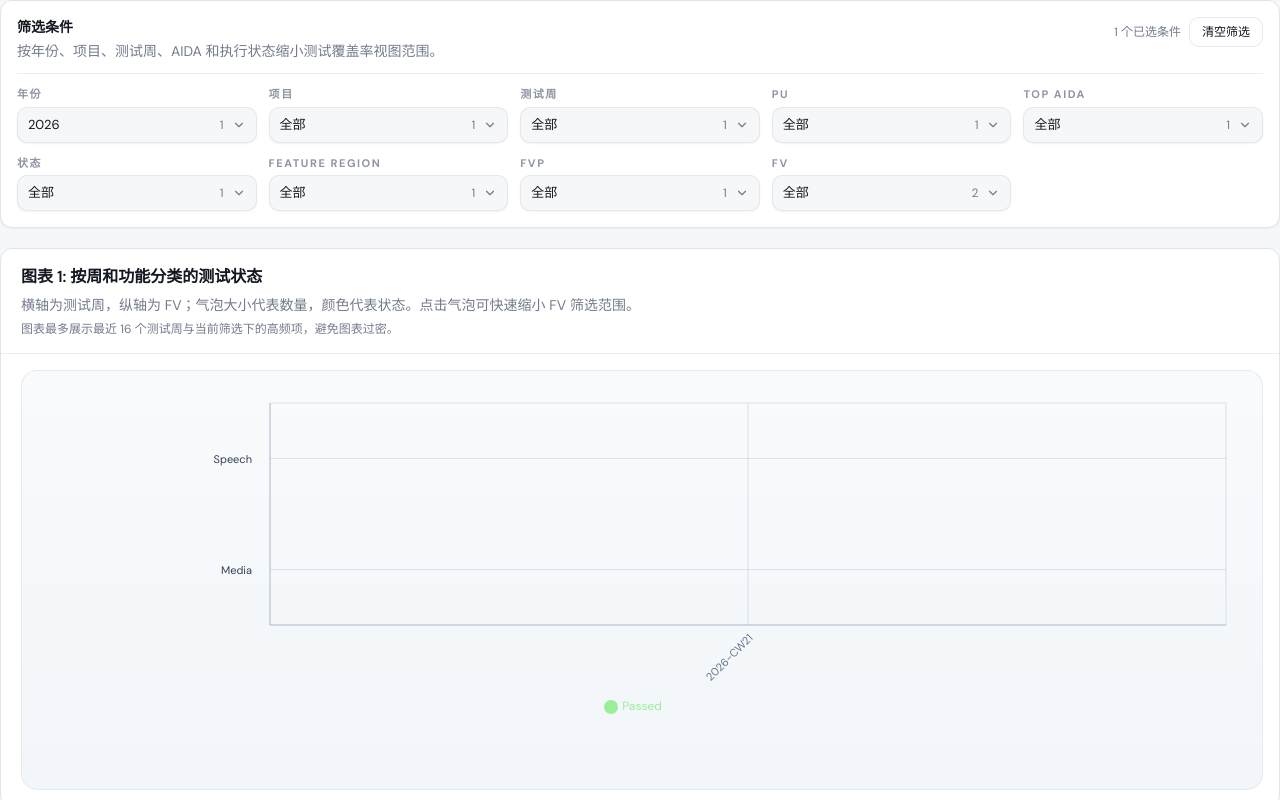
CoverageAnalysis page › defers filter refresh until the user applies multi-select changes
Click the button with aria-label "FV filter" at (892, 193), box [772,175,1011,211]
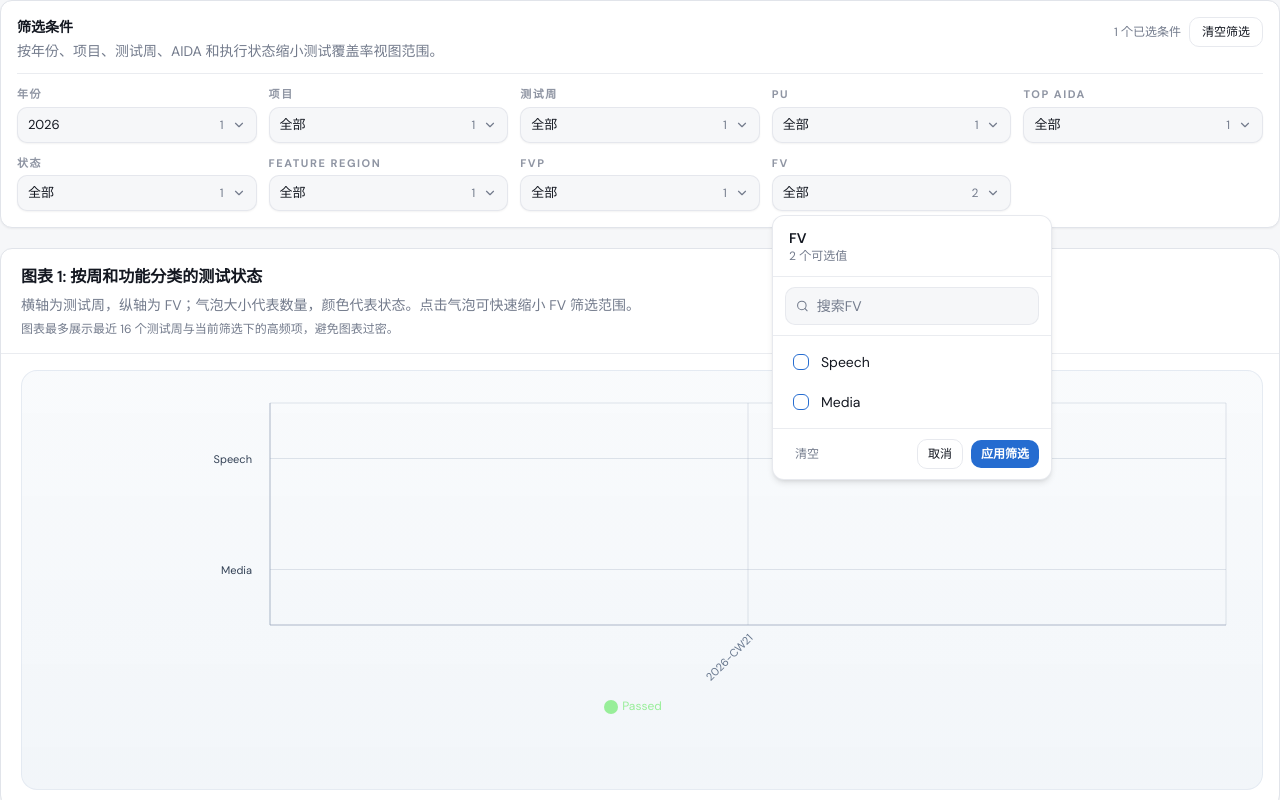
Click the checkbox named "FV Media" at (841, 402), box [781,384,1043,420]
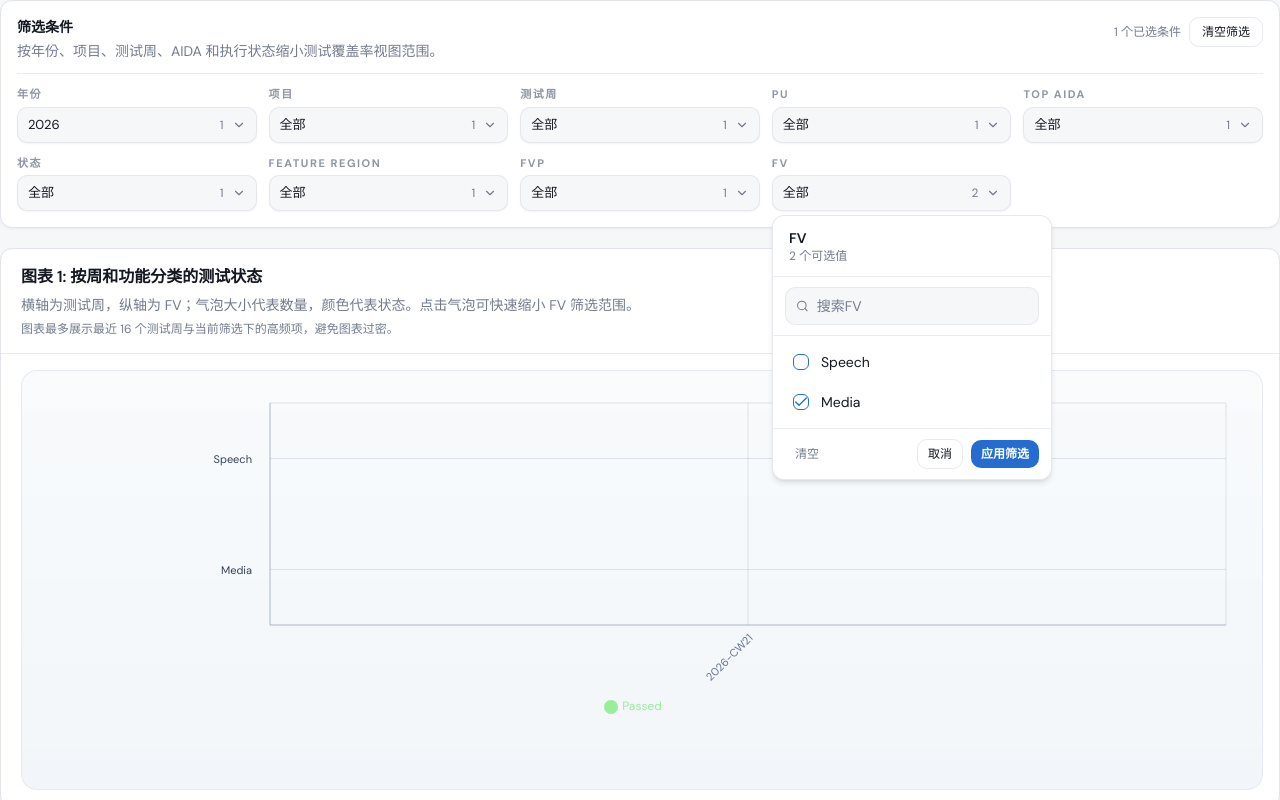
Click the button "应用筛选" at (1005, 454), box [971,440,1039,468]
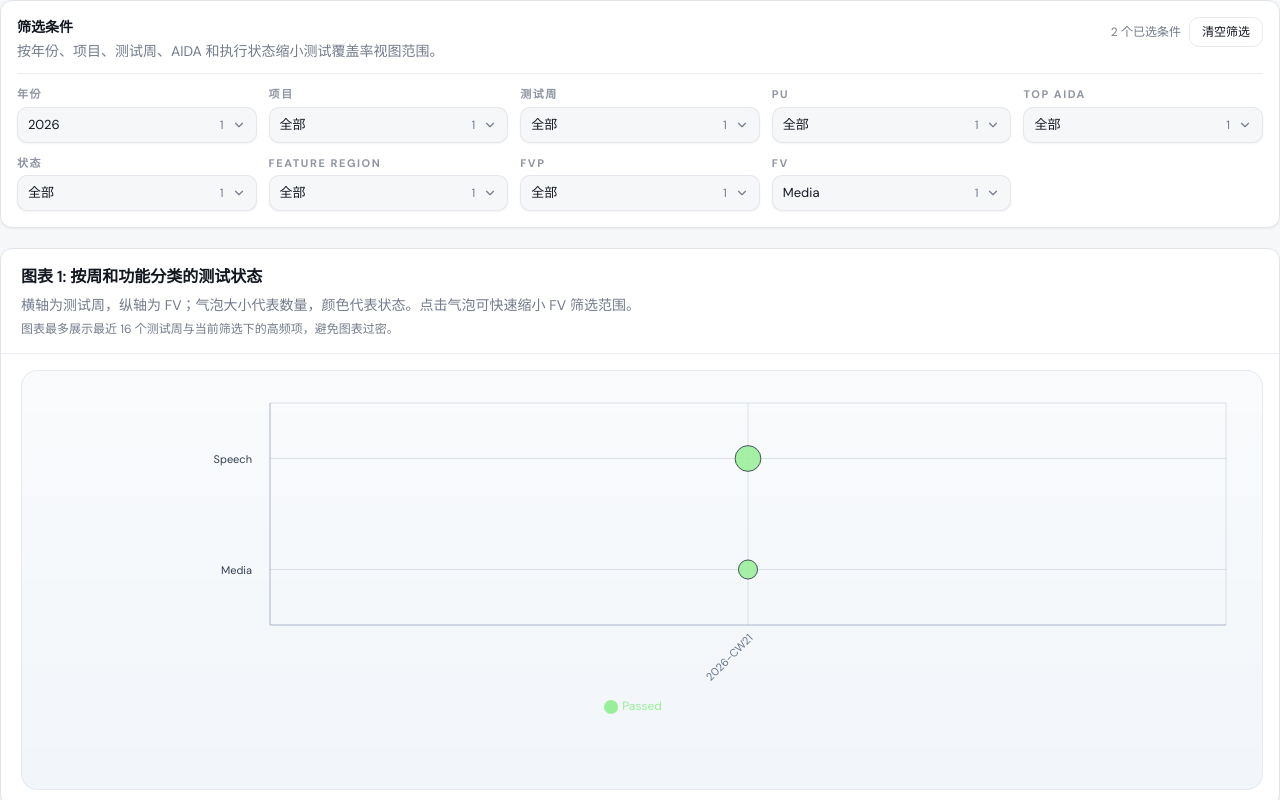
Expected: the button with aria-label "FV filter" shows "Media", [772,175,1011,211]
